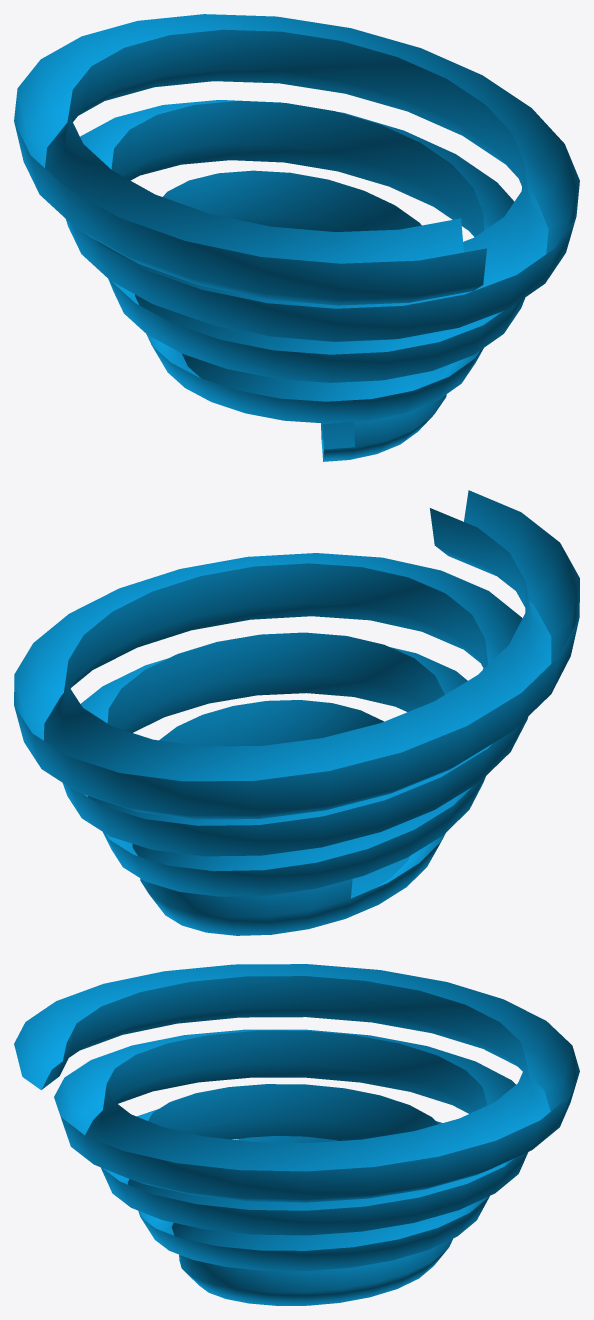
The model's file is spiral.obj.
The picture shows the model from 3 angles, top to bottom: view 1: azimuth 30°, elevation 25°; view 2: azimuth 150°, elevation 25°; view 3: azimuth 270°, elevation 25°; orthographic projection. The views are drawn at different scales.
Visible parts, largest first — view 1: Spiral_Mesh; view 2: Spiral_Mesh; view 3: Spiral_Mesh.
Part boxes in pixels (x1,y1,x2,y2): Spiral_Mesh: [14, 14, 579, 461]; Spiral_Mesh: [14, 490, 579, 935]; Spiral_Mesh: [14, 964, 579, 1305].
Size of the model in its own units: 110 by 67.97 by 145.
